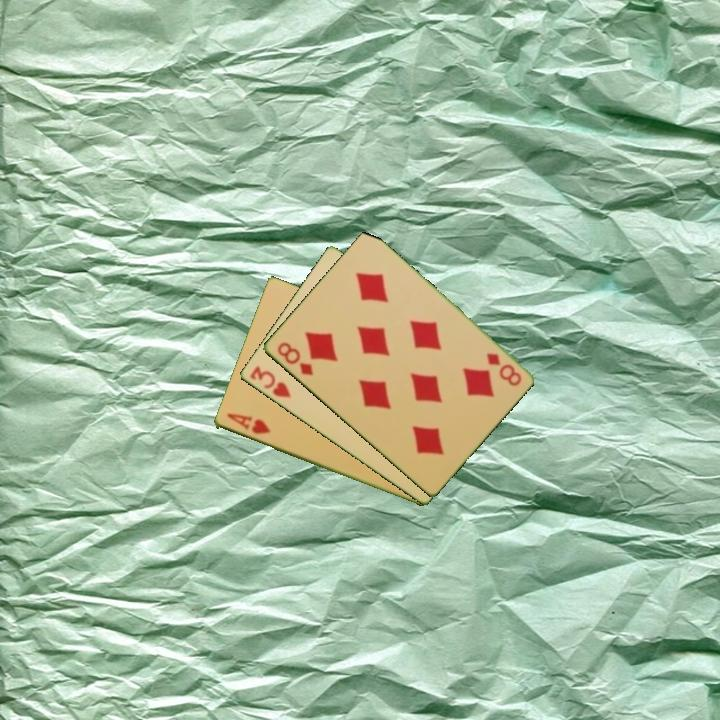3h: (246, 362, 294, 401)
8d: (273, 339, 316, 379), (482, 349, 524, 389)
Ah: (223, 410, 273, 437)
